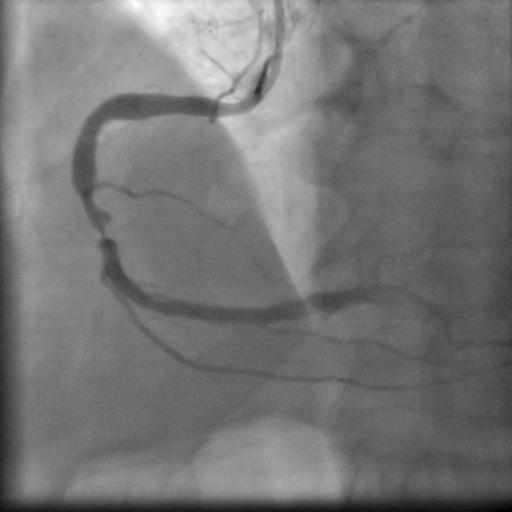Stenosis: (73, 195, 128, 251)
